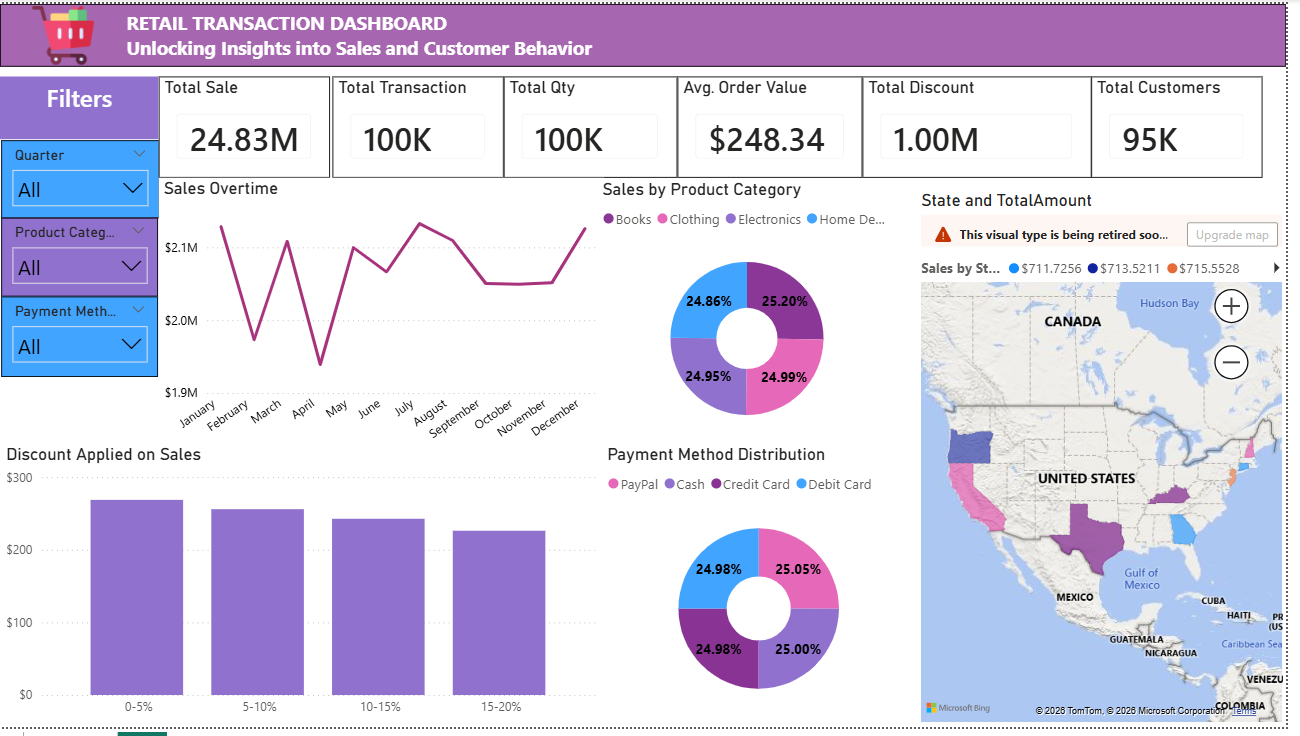

The page's visual inventory and layout, read from the dashboard file:
{"tool":"powerbi","page":{"name":"Page 1","canvas":[1280,720],"ordinal":0},"visuals":[{"type":"textbox","box":[0,0,1280,62.2],"z":0},{"type":"slicer","fields":{"Values":["Retail_Transaction_Dataset.TransactionDate.Variation.Date Hierarchy.Quarter"]},"box":[1.2,135,157.5,77.5],"z":1000},{"type":"image","box":[0,0,125.6,62.2],"z":2000},{"type":"slicer","fields":{"Values":["Retail_Transaction_Dataset.ProductCategory"]},"box":[1.2,212.5,156.2,78.8],"z":3000},{"type":"cardVisual","title":"Total Sale","fields":{"Data":["Sum(Retail_Transaction_Dataset.TotalAmount)"]},"box":[170.4,71.1,170.4,100.8],"z":4000,"group":"g1"},{"type":"cardVisual","title":"Total Transaction","fields":{"Data":["CountNonNull(Retail_Transaction_Dataset.TransactionID)"]},"box":[342.8,70.9,170.4,100.8],"z":5000,"group":"g1"},{"type":"slicer","fields":{"Values":["Retail_Transaction_Dataset.PaymentMethod"]},"box":[1.2,291.2,156.2,80],"z":6000},{"type":"cardVisual","title":"Total Qty","fields":{"Data":["CountNonNull(Retail_Transaction_Dataset.Quantity)"]},"box":[513.5,71.4,172.9,100.8],"z":7000,"group":"g1"},{"type":"cardVisual","title":"Avg. Order Value","fields":{"Data":["Avg(Retail_Transaction_Dataset.TotalAmount)"]},"box":[686.4,71.4,184.1,100.8],"z":8000,"group":"g1"},{"type":"cardVisual","title":"Total Discount","fields":{"Data":["Sum(Retail_Transaction_Dataset.DiscountApplied(%))"]},"box":[870.5,71.4,227.6,100.8],"z":9000,"group":"g1"},{"type":"cardVisual","title":"Total Customers","fields":{"Data":["Count(Retail_Transaction_Dataset.CustomerID)"]},"box":[1098.1,71.4,170.4,100.8],"z":10000,"group":"g1"},{"type":"textbox","box":[0,72.1,158,62.2],"z":11000},{"type":"lineChart","title":"Sales Overtime","fields":{"Y":["Sum(Retail_Transaction_Dataset.TotalAmount)"],"Category":["Retail_Transaction_Dataset.TransactionDate.Variation.Date Hierarchy.Month"]},"box":[157.5,172.5,442.5,282.5],"z":12000},{"type":"donutChart","title":"Sales by Product Category","fields":{"Category":["Retail_Transaction_Dataset.ProductCategory"],"Y":["Sum(Retail_Transaction_Dataset.TotalAmount)"]},"box":[600,173.8,287.5,263.8],"z":13000},{"type":"donutChart","title":"Payment Method Distribution","fields":{"Category":["Retail_Transaction_Dataset.PaymentMethod"],"Y":["Sum(Retail_Transaction_Dataset.TotalAmount)"]},"box":[600,437.5,311.2,278.8],"z":14000},{"type":"filledMap","fields":{"Category":["Retail_Transaction_Dataset.State"],"Series":["Retail_Transaction_Dataset.TotalAmount"]},"box":[911.2,185,368.8,535],"z":15000},{"type":"clusteredColumnChart","title":"Discount Applied on Sales","fields":{"Category":["Retail_Transaction_Dataset.Discount Range"],"Y":["Avg(Retail_Transaction_Dataset.TotalAmount)"]},"box":[1.2,437.5,598.8,280],"z":16000},{"type":"group","id":"g1","title":"Group 1","box":[170.4,70.9,1098.4,100.8],"z":16001}]}

Visuals, with their boxes in screenshot pixels (x1, y1, x2, y2), scaled from the page's 1280x720 canvas onto the 1300x736 screenshot:
textbox: bbox=(0, 0, 1299, 64)
slicer - Retail_Transaction_Dataset.TransactionDate.Variation.Date Hierarchy.Quarter: bbox=(1, 138, 161, 217)
image: bbox=(0, 0, 128, 64)
slicer - Retail_Transaction_Dataset.ProductCategory: bbox=(1, 217, 160, 298)
"Total Sale" cardVisual: bbox=(173, 73, 346, 176)
"Total Transaction" cardVisual: bbox=(348, 72, 521, 176)
slicer - Retail_Transaction_Dataset.PaymentMethod: bbox=(1, 298, 160, 379)
"Total Qty" cardVisual: bbox=(522, 73, 697, 176)
"Avg. Order Value" cardVisual: bbox=(697, 73, 884, 176)
"Total Discount" cardVisual: bbox=(884, 73, 1115, 176)
"Total Customers" cardVisual: bbox=(1115, 73, 1288, 176)
textbox: bbox=(0, 74, 160, 137)
"Sales Overtime" lineChart: bbox=(160, 176, 609, 465)
"Sales by Product Category" donutChart: bbox=(609, 178, 901, 447)
"Payment Method Distribution" donutChart: bbox=(609, 447, 925, 732)
filledMap - Retail_Transaction_Dataset.State x Retail_Transaction_Dataset.TotalAmount: bbox=(925, 189, 1299, 735)
"Discount Applied on Sales" clusteredColumnChart: bbox=(1, 447, 609, 733)
"Group 1" group: bbox=(173, 72, 1289, 176)
